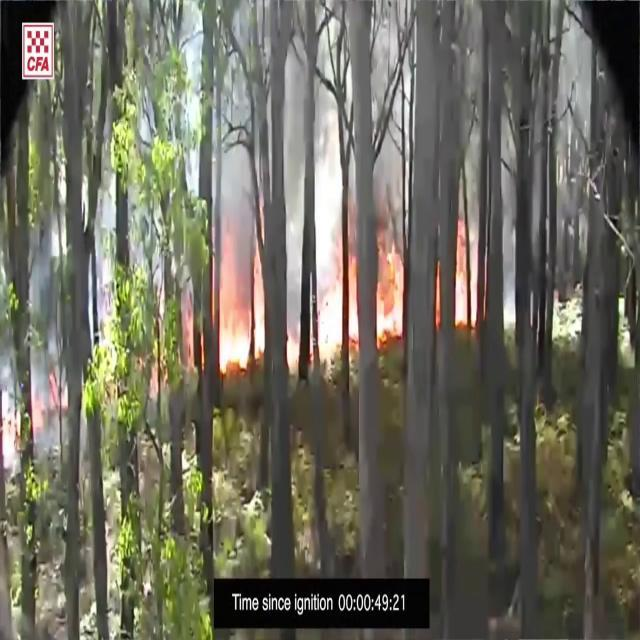Fire: (376, 231, 406, 349)
Smoke: (211, 2, 469, 344)
